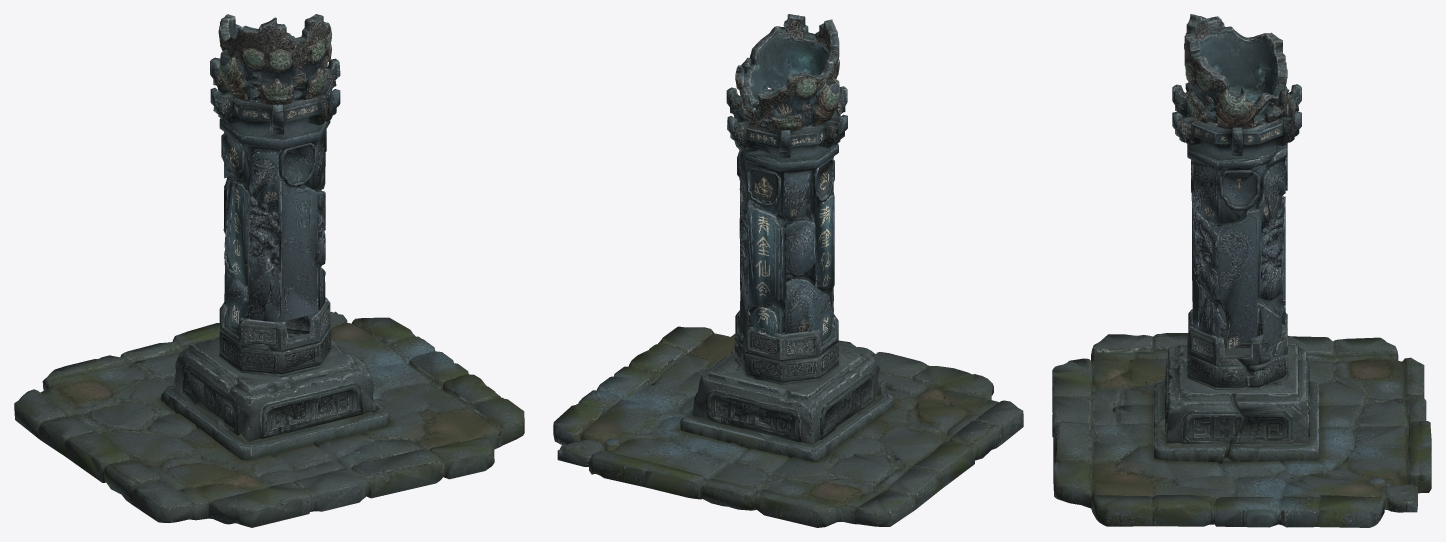
File: shizhu.glb
The picture shows the model from 3 angles, left to right: view 1: azimuth 30°, elevation 25°; view 2: azimuth 150°, elevation 25°; view 3: azimuth 270°, elevation 25°; orthographic projection. The views are drawn at different scales.
Parts seen in each view (by area): view 1: tripo_node_37185144-9e4b-42ae-9695-3e867f4148e5; view 2: tripo_node_37185144-9e4b-42ae-9695-3e867f4148e5; view 3: tripo_node_37185144-9e4b-42ae-9695-3e867f4148e5.
Part boxes in pixels (x1,y1,x2,y2): tripo_node_37185144-9e4b-42ae-9695-3e867f4148e5: (14,14,524,527); tripo_node_37185144-9e4b-42ae-9695-3e867f4148e5: (553,14,1023,527); tripo_node_37185144-9e4b-42ae-9695-3e867f4148e5: (1052,14,1431,527).
Size of the model in its own units: 0.8965 by 0.998 by 0.8223.
1 material, 1 textured.
